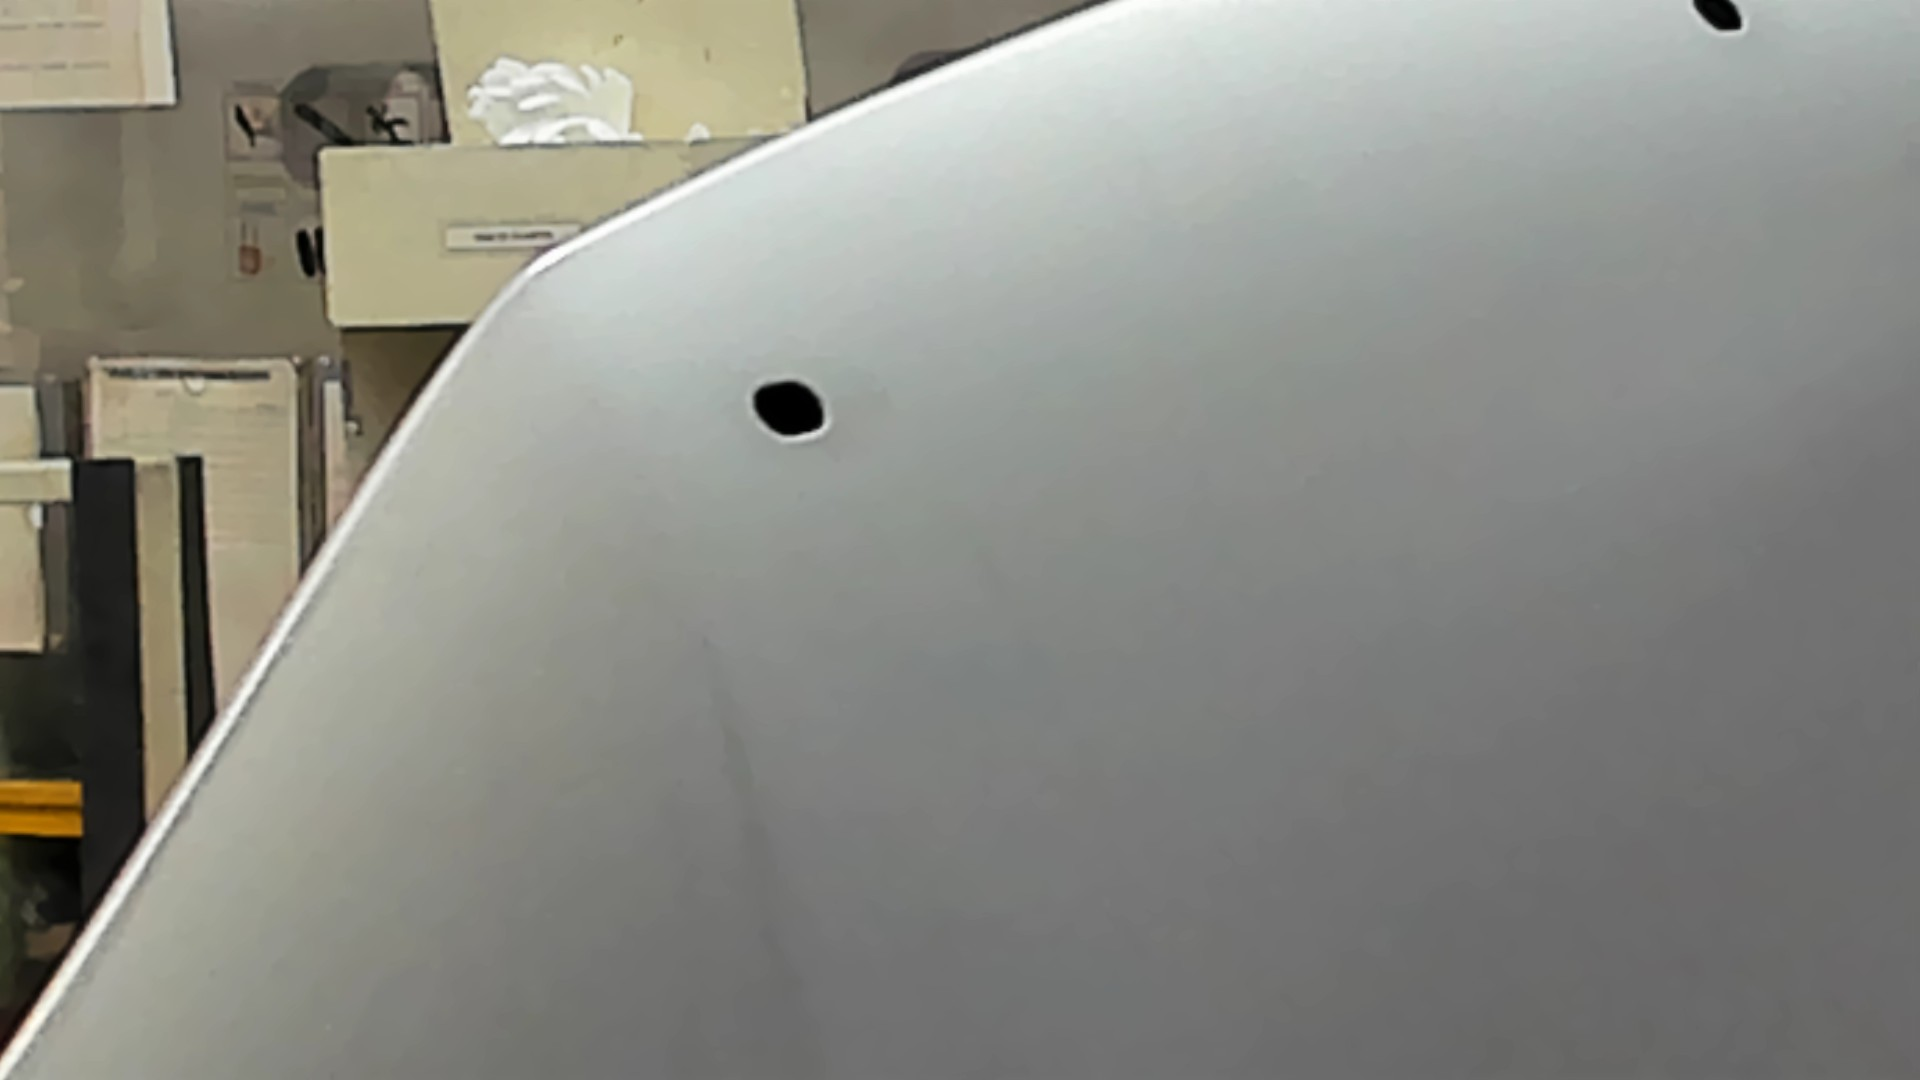Agujero: (741, 375, 833, 444), (1683, 1, 1753, 40)
